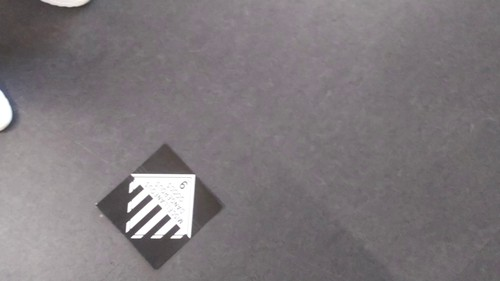misgoods: (118, 169, 197, 240)
